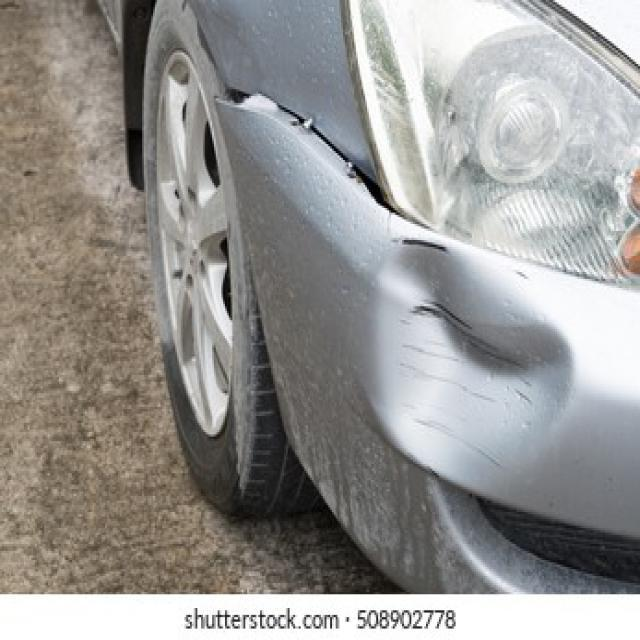front-bumper-dent: (223, 153, 638, 604)
